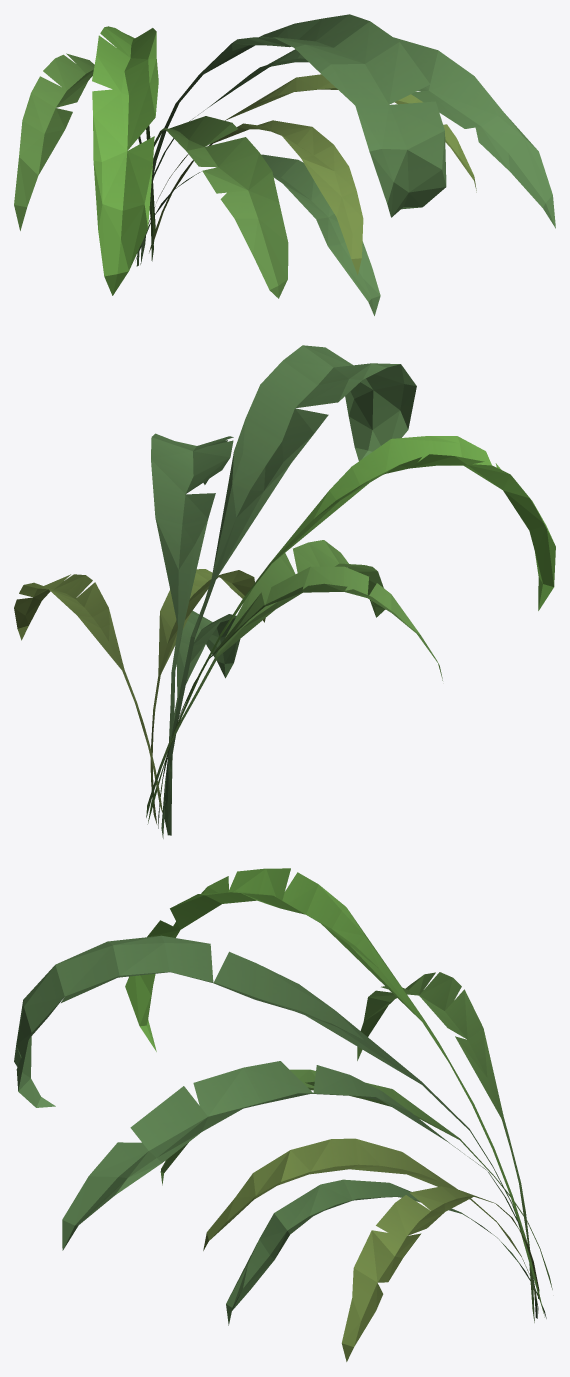
Rendered from Jungle_ThinFern_E.fbx.
The picture shows the model from 3 angles, top to bottom: view 1: azimuth 30°, elevation 25°; view 2: azimuth 150°, elevation 25°; view 3: azimuth 270°, elevation 25°; orthographic projection. The views are drawn at different scales.
Parts seen in each view (by area): view 1: Jungle_ThinFern_E; view 2: Jungle_ThinFern_E; view 3: Jungle_ThinFern_E.
Boxes of the visible parts, bbox=[...] form: Jungle_ThinFern_E: bbox=[14, 14, 555, 315]; Jungle_ThinFern_E: bbox=[14, 345, 555, 838]; Jungle_ThinFern_E: bbox=[14, 868, 552, 1361].
Bounding box in the file's own units: 3.21 × 2.34 × 3.06.
